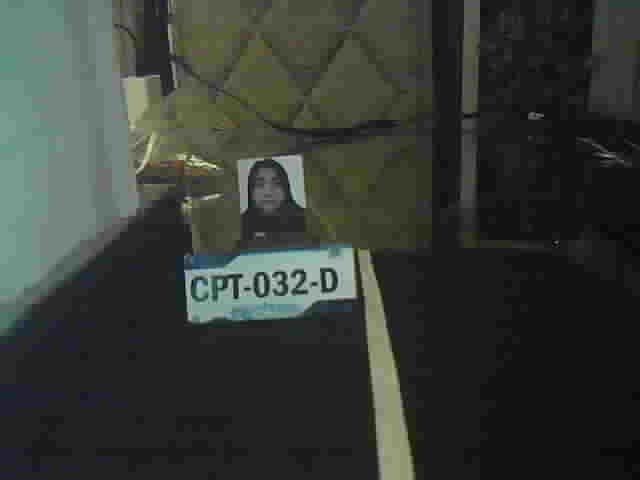PLACA: (180, 244, 358, 328)
ROSTRO: (238, 158, 308, 231)
